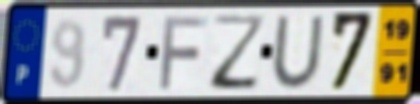7: (328, 9, 376, 94), (99, 13, 145, 94)
9: (48, 16, 90, 91)
F: (157, 13, 211, 92)
U: (269, 13, 327, 91)
Z: (209, 12, 268, 92)
